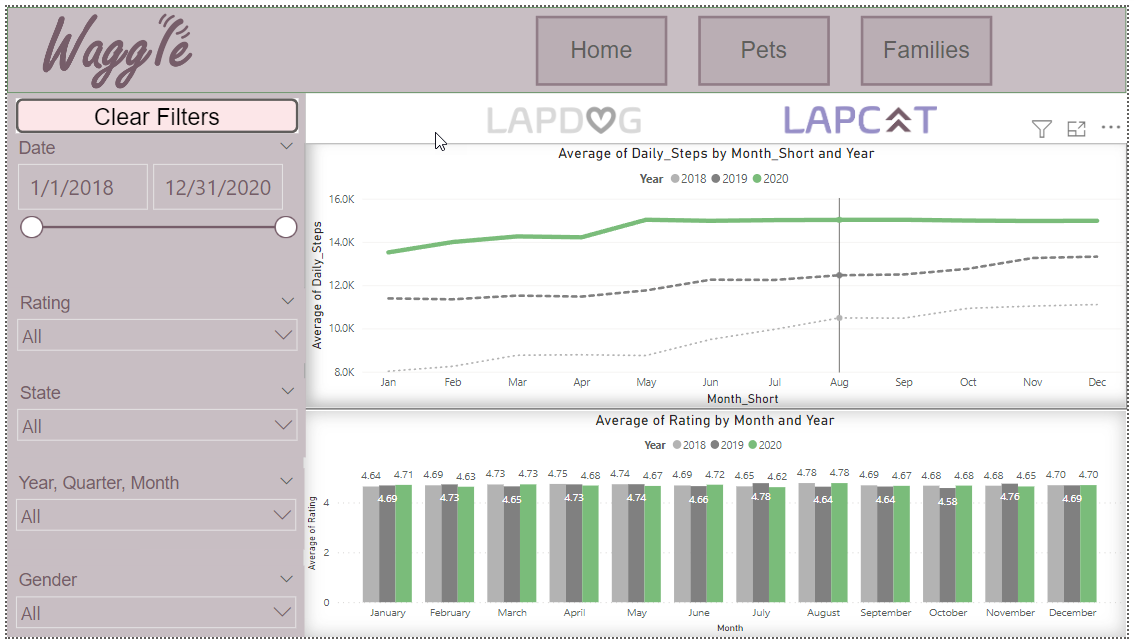

What the dashboard file says about the page in this screenshot:
{"tool":"powerbi","page":{"name":"Home","canvas":[1280,720],"ordinal":0},"visuals":[{"type":"shape","box":[0,0,341.4,720],"z":0},{"type":"slicer","fields":{"Values":["Rating_Data.Rating"]},"box":[1.4,321.7,340,85.7],"z":0,"group":"g1"},{"type":"slicer","fields":{"Values":["Date_Table.Date"]},"box":[0,144.9,340,175.7],"z":1000,"group":"g1"},{"type":"lineChart","fields":{"Y":["Avg(Tracker_Data.Daily_Steps)"],"Category":["Date_Table.Month_Short"],"Series":["Date_Table.Year"]},"box":[339.7,155.1,939.7,303.8],"z":1000},{"type":"slicer","fields":{"Values":["Family_Data.State"]},"box":[1.4,424.9,340,90],"z":2000,"group":"g1"},{"type":"slicer","fields":{"Values":["Rating_Data.Review_Date.Variation.Date Hierarchy.Year","Rating_Data.Review_Date.Variation.Date Hierarchy.Quarter","Rating_Data.Review_Date.Variation.Date Hierarchy.Month"]},"box":[0,527.8,340,92.9],"z":3000,"group":"g1"},{"type":"clusteredColumnChart","fields":{"Category":["Rating_Data.Review_Date.Variation.Date Hierarchy.Month"],"Y":["Avg(Rating_Data.Rating)"],"Series":["Rating_Data.Review_Date.Variation.Date Hierarchy.Year"]},"box":[338.5,461.5,941,259],"z":4000},{"type":"slicer","title":"Slicer","fields":{"Values":["Pet_Data.Gender"]},"box":[0,639.1,340,81.4],"z":4000,"group":"g1"},{"type":"group","id":"g1","title":"slicer","box":[0,144.9,341.4,575.6],"z":5000},{"type":"shape","title":"banner","box":[0,0,1279.5,98.7],"z":6000},{"type":"image","box":[0,1.4,252.9,97.1],"z":7000},{"type":"actionButton","title":"Home","box":[604.3,10,150,80],"z":8000},{"type":"actionButton","title":"Pets","box":[790,10,150,80],"z":9000},{"type":"actionButton","title":"Families","box":[975.7,10,150,80],"z":10000},{"type":"actionButton","title":"Clear Filters","box":[10,104.3,322.9,40],"z":11000},{"type":"image","title":"Lapcat Inactive","box":[543.6,20.5,184.6,217.9],"z":12000},{"type":"image","title":"Lapcat Active","box":[883.3,20.5,184.6,217.9],"z":15000}]}

Visuals, with their boxes in screenshot pixels (x1, y1, x2, y2), scaled from the page's 1280x720 canvas onto the 1134x644 screenshot:
shape: locate(0, 0, 302, 643)
slicer - Rating_Data.Rating: locate(1, 288, 302, 364)
slicer - Date_Table.Date: locate(0, 130, 301, 287)
lineChart - Avg(Tracker_Data.Daily_Steps) x Date_Table.Month_Short: locate(301, 139, 1133, 410)
slicer - Family_Data.State: locate(1, 380, 302, 461)
slicer - Rating_Data.Review_Date.Variation.Date Hierarchy.Year x Rating_Data.Review_Date.Variation.Date Hierarchy.Quarter: locate(0, 472, 301, 555)
clusteredColumnChart - Rating_Data.Review_Date.Variation.Date Hierarchy.Month x Avg(Rating_Data.Rating): locate(300, 413, 1133, 643)
"Slicer" slicer: locate(0, 572, 301, 643)
"slicer" group: locate(0, 130, 302, 643)
"banner" shape: locate(0, 0, 1133, 88)
image: locate(0, 1, 224, 88)
"Home" actionButton: locate(535, 9, 668, 80)
"Pets" actionButton: locate(700, 9, 833, 80)
"Families" actionButton: locate(864, 9, 997, 80)
"Clear Filters" actionButton: locate(9, 93, 295, 129)
"Lapcat Inactive" image: locate(482, 18, 645, 213)
"Lapcat Active" image: locate(783, 18, 946, 213)
